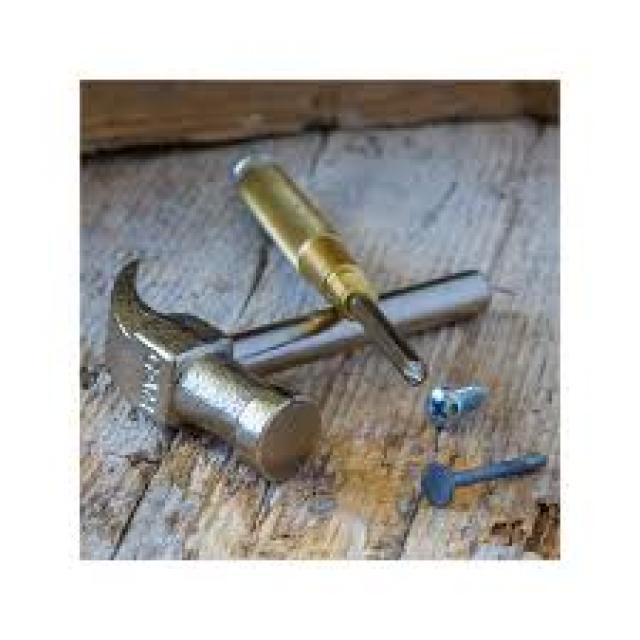hammer: (91, 213, 512, 490)
screwdriver: (224, 150, 436, 402)
